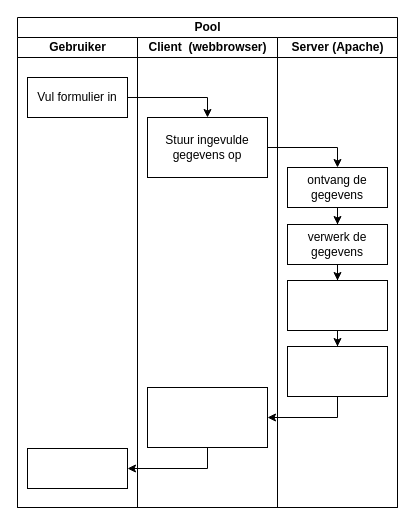
Image size: 415x525. Some labels were removed from this diagram. Each missing label, with the centre of its shape:
Bekijk de website: point 77,468
stuur het HTML-bestand terug: point 337,371
Toon de website door de HTML-code uit te voeren: point 207,417
vul gegevens in in een HTML-bestand: point 337,305
